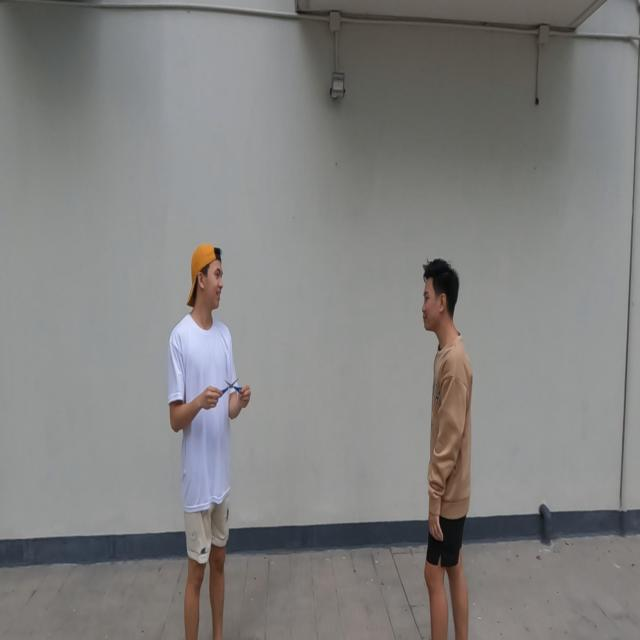scissor: (218, 377, 244, 398)
